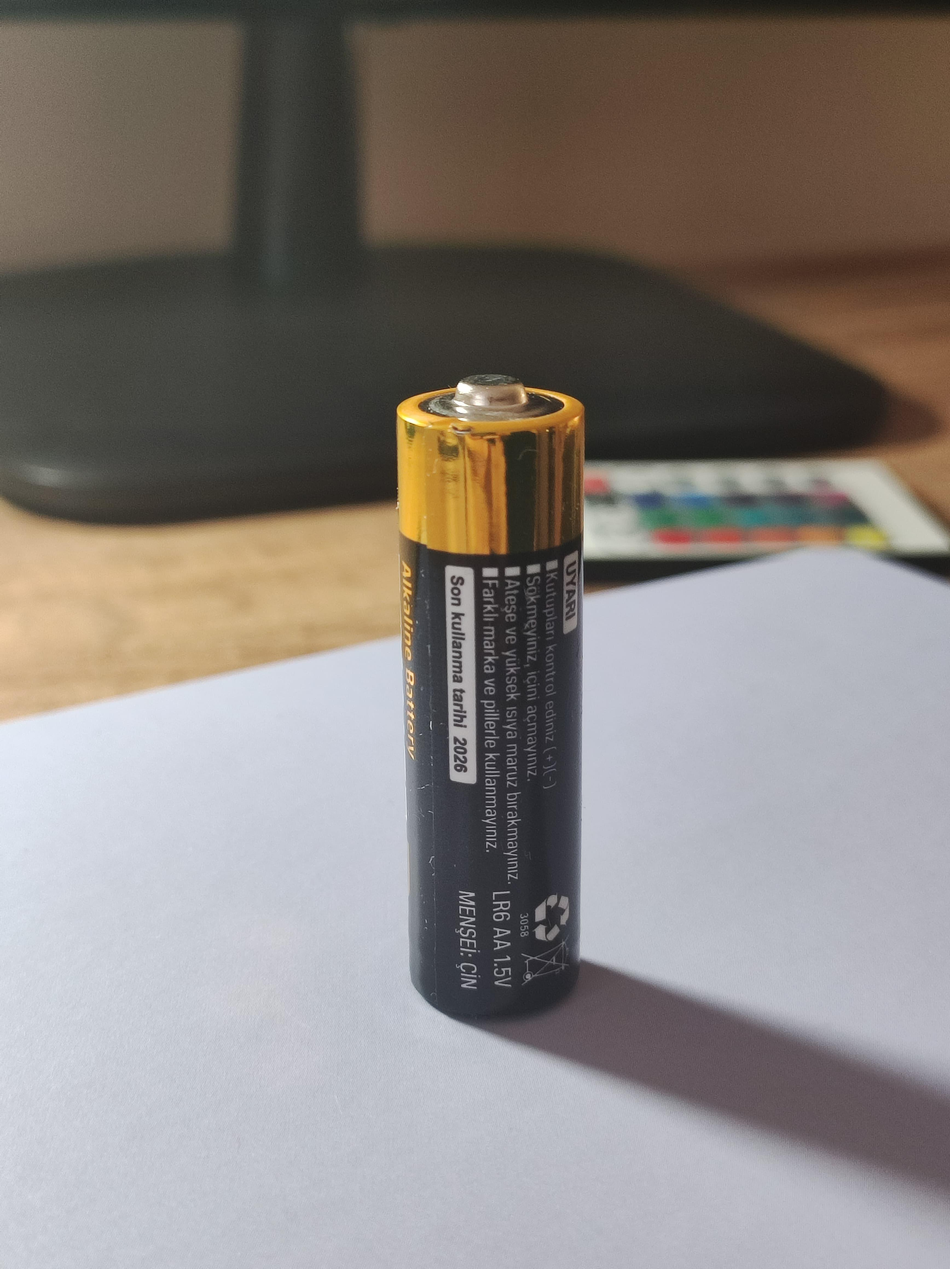AA: (386, 365, 595, 1036)
